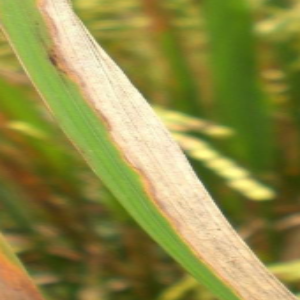Bacterial_Blight: (65, 26, 209, 261)
